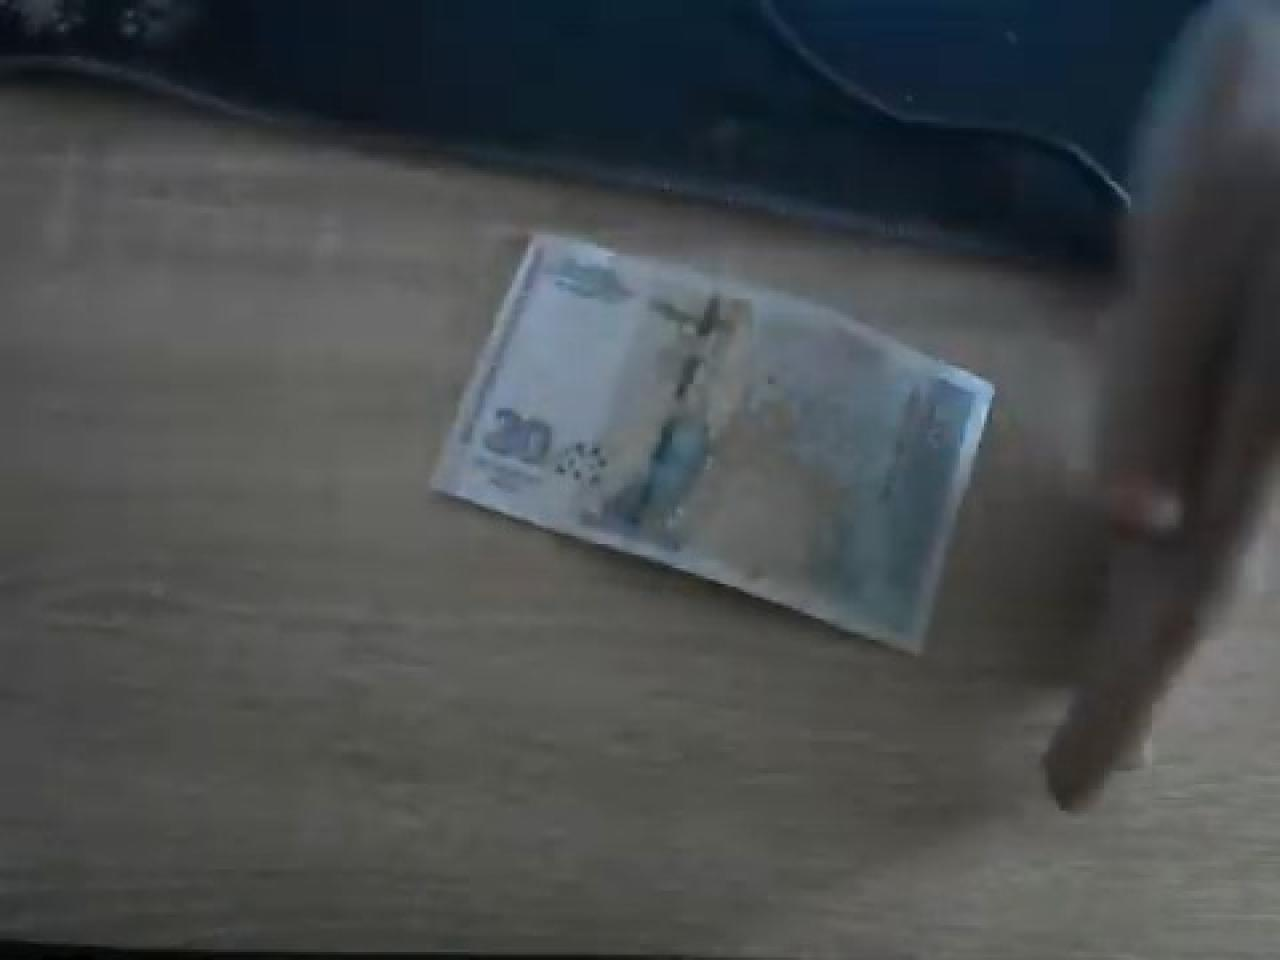20leva: (429, 237, 995, 658)
